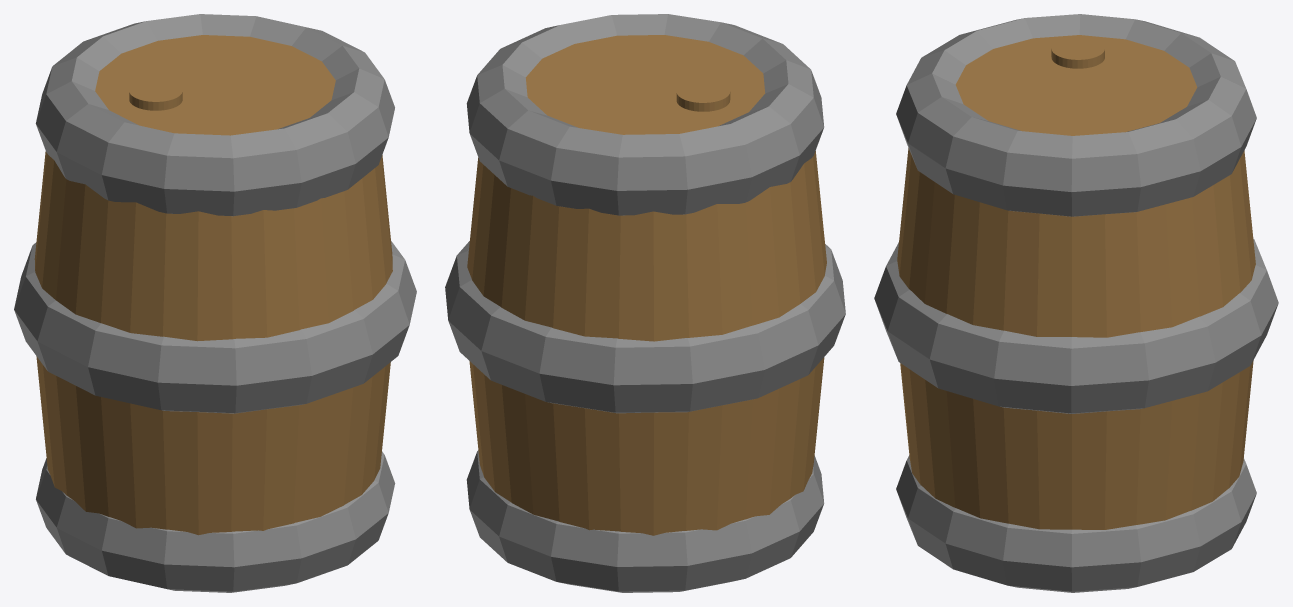
Rendered from Barrel.fbx.
3 renders of one model, left to right at view 1: azimuth 30°, elevation 25°; view 2: azimuth 150°, elevation 25°; view 3: azimuth 270°, elevation 25°, orthographic.
Parts seen in each view (by area): view 1: Torus.004; view 2: Torus.004; view 3: Torus.004.
Part boxes in pixels (bbox=[...]): Torus.004: bbox=[14, 14, 416, 592]; Torus.004: bbox=[445, 14, 845, 592]; Torus.004: bbox=[874, 14, 1278, 592].
Size of the model in its own units: 195 by 243 by 195.
